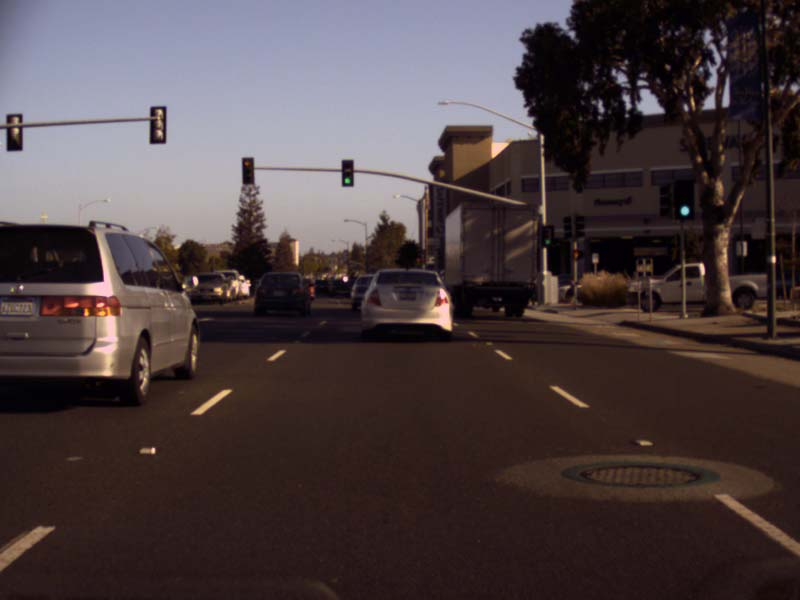Green: (675, 180, 694, 220), (340, 159, 354, 188), (542, 226, 551, 245)
Red: (241, 157, 254, 185)
